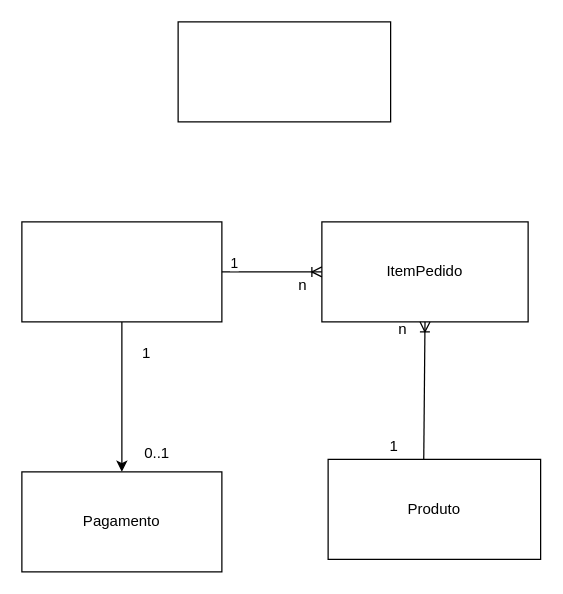
The diagram is 563 pixels wide and 594 high, and some of its shapes have lost their labels. The centre of each missing label's shape, as x and y in pixels:
"Administrador" belongs at point (284, 71).
"Pedido" belongs at point (121, 271).
